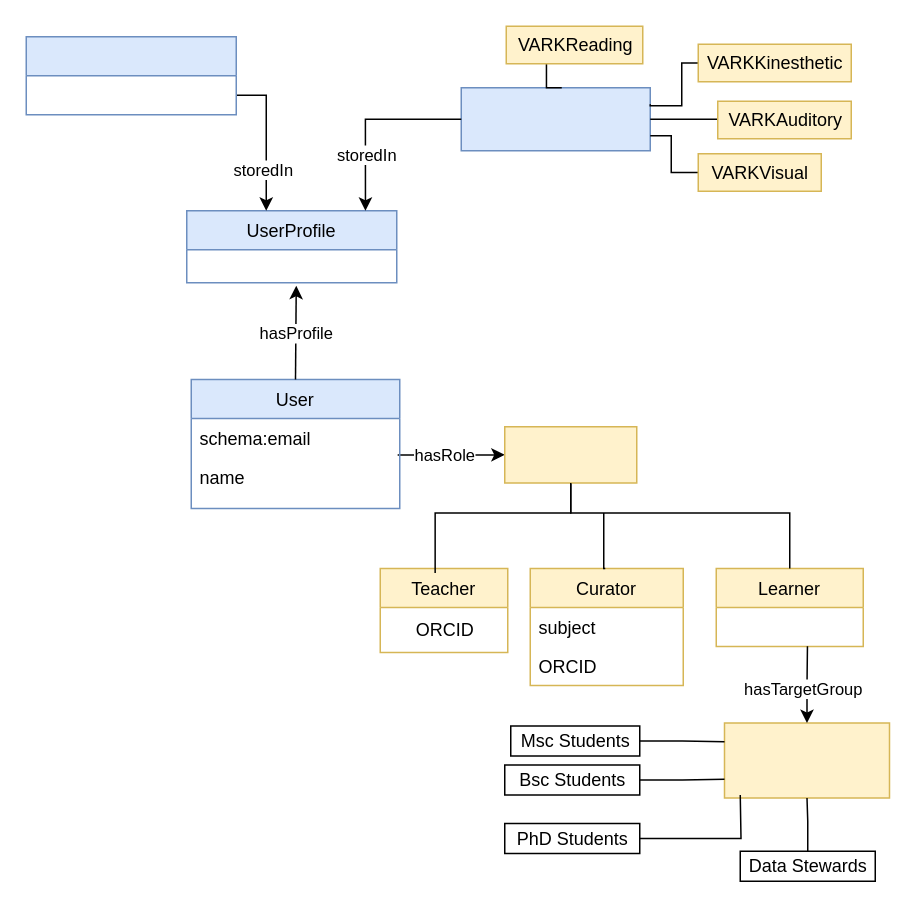
The diagram is 917 pixels wide and 908 high, and some of its shapes have lost their labels. Each missing label, with the centre of its shape:
"LearningGoal" goes at point (130, 75).
"LearningPreference" goes at point (555, 118).
"TargetGroup" goes at point (806, 760).
"UserRole" goes at point (570, 454).
